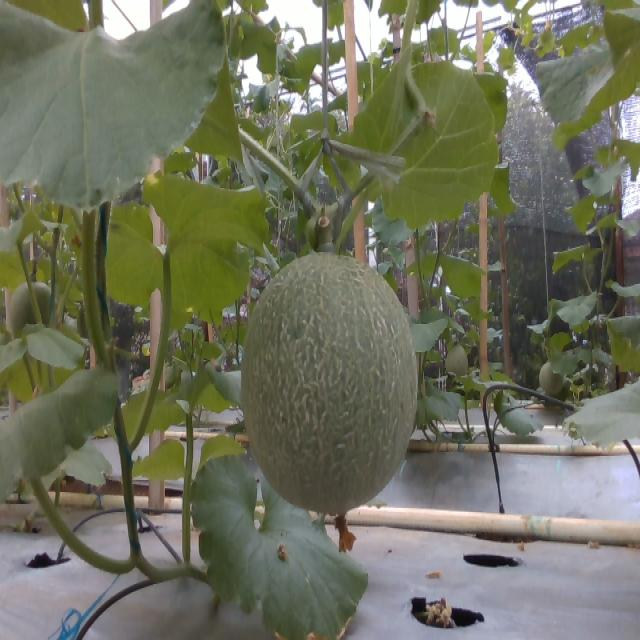melon: (242, 252, 418, 515)
